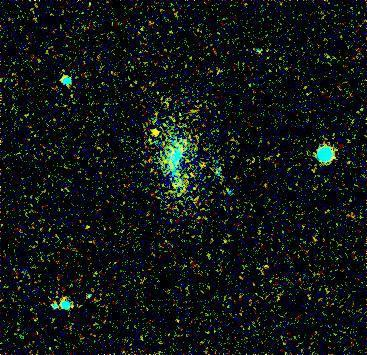star: (142, 118, 172, 148)
